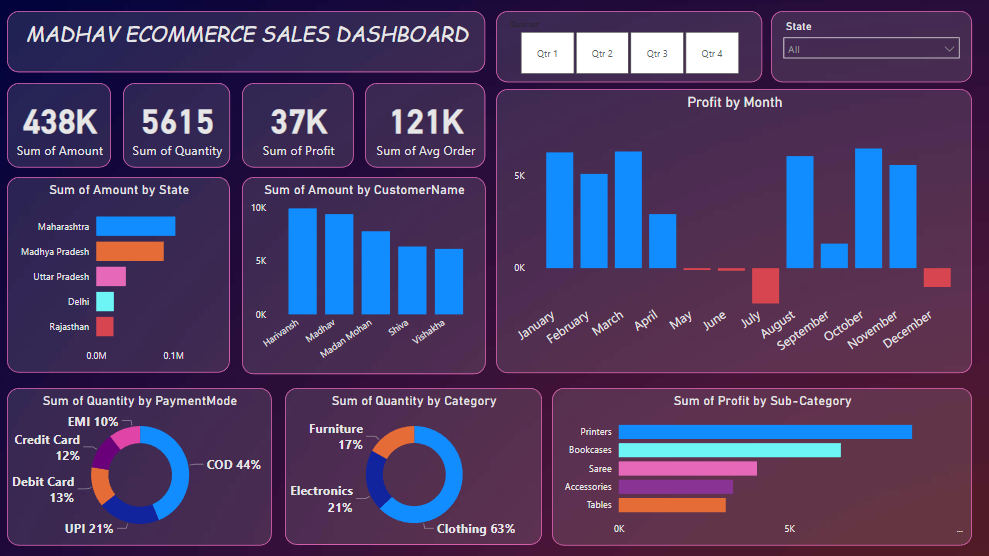

This screenshot's page, from the dashboard's own definition file:
{"tool":"powerbi","page":{"name":"Page 1","canvas":[1280,720],"ordinal":0},"visuals":[{"type":"textbox","box":[10.1,16.8,616.5,79],"z":0},{"type":"columnChart","title":"Profit by Month","fields":{"Y":["Details.Profit"],"Category":["Orders.Order Date.Variation.Date Hierarchy.Month"]},"box":[640,117.6,613.1,366.2],"z":1000},{"type":"barChart","fields":{"Category":["Details.Sub-Category"],"Y":["Details.Profit"]},"box":[712.2,502.3,540.9,203.3],"z":2000},{"type":"donutChart","fields":{"Category":["Details.Category"],"Y":["Details.Quantity"]},"box":[367.9,502.3,330.9,201.6],"z":3000},{"type":"donutChart","fields":{"Y":["Details.Quantity"],"Category":["Details.PaymentMode"]},"box":[10.1,502.3,341,203.3],"z":4000},{"type":"card","fields":{"Values":["Details.Amount"]},"box":[10.1,109.2,134.4,109.2],"z":5000},{"type":"card","fields":{"Values":["Details.Quantity"]},"box":[159.6,109.2,137.7,109.2],"z":6000},{"type":"card","fields":{"Values":["Details.Profit"]},"box":[312.4,109.2,144.5,109.2],"z":7000},{"type":"card","fields":{"Values":["Details.Avg Order Value"]},"box":[472,109.2,154.5,109.2],"z":8000},{"type":"barChart","fields":{"Category":["Orders.State"],"Y":["Details.Amount"]},"box":[10.1,230.1,287.2,252],"z":9000},{"type":"columnChart","fields":{"Category":["Orders.CustomerName"],"Y":["Details.Amount"]},"box":[312.4,230.1,314.1,253.6],"z":10000},{"type":"slicer","fields":{"Values":["Orders.Order Date.Variation.Date Hierarchy.Quarter"]},"box":[640,16.8,342.7,92.4],"z":10001},{"type":"slicer","fields":{"Values":["Orders.State"]},"box":[994.4,16.8,258.7,92.4],"z":10002}]}

Visuals, with their boxes in screenshot pixels (x1, y1, x2, y2), scaled from the page's 1280x720 canvas onto the 989x556 screenshot:
textbox: <bbox>8, 13, 484, 74</bbox>
"Profit by Month" columnChart: <bbox>494, 91, 968, 374</bbox>
barChart - Details.Sub-Category x Details.Profit: <bbox>550, 388, 968, 545</bbox>
donutChart - Details.Category x Details.Quantity: <bbox>284, 388, 540, 544</bbox>
donutChart - Details.Quantity x Details.PaymentMode: <bbox>8, 388, 271, 545</bbox>
card - Details.Amount: <bbox>8, 84, 112, 169</bbox>
card - Details.Quantity: <bbox>123, 84, 230, 169</bbox>
card - Details.Profit: <bbox>241, 84, 353, 169</bbox>
card - Details.Avg Order Value: <bbox>365, 84, 484, 169</bbox>
barChart - Orders.State x Details.Amount: <bbox>8, 178, 230, 372</bbox>
columnChart - Orders.CustomerName x Details.Amount: <bbox>241, 178, 484, 374</bbox>
slicer - Orders.Order Date.Variation.Date Hierarchy.Quarter: <bbox>494, 13, 759, 84</bbox>
slicer - Orders.State: <bbox>768, 13, 968, 84</bbox>
